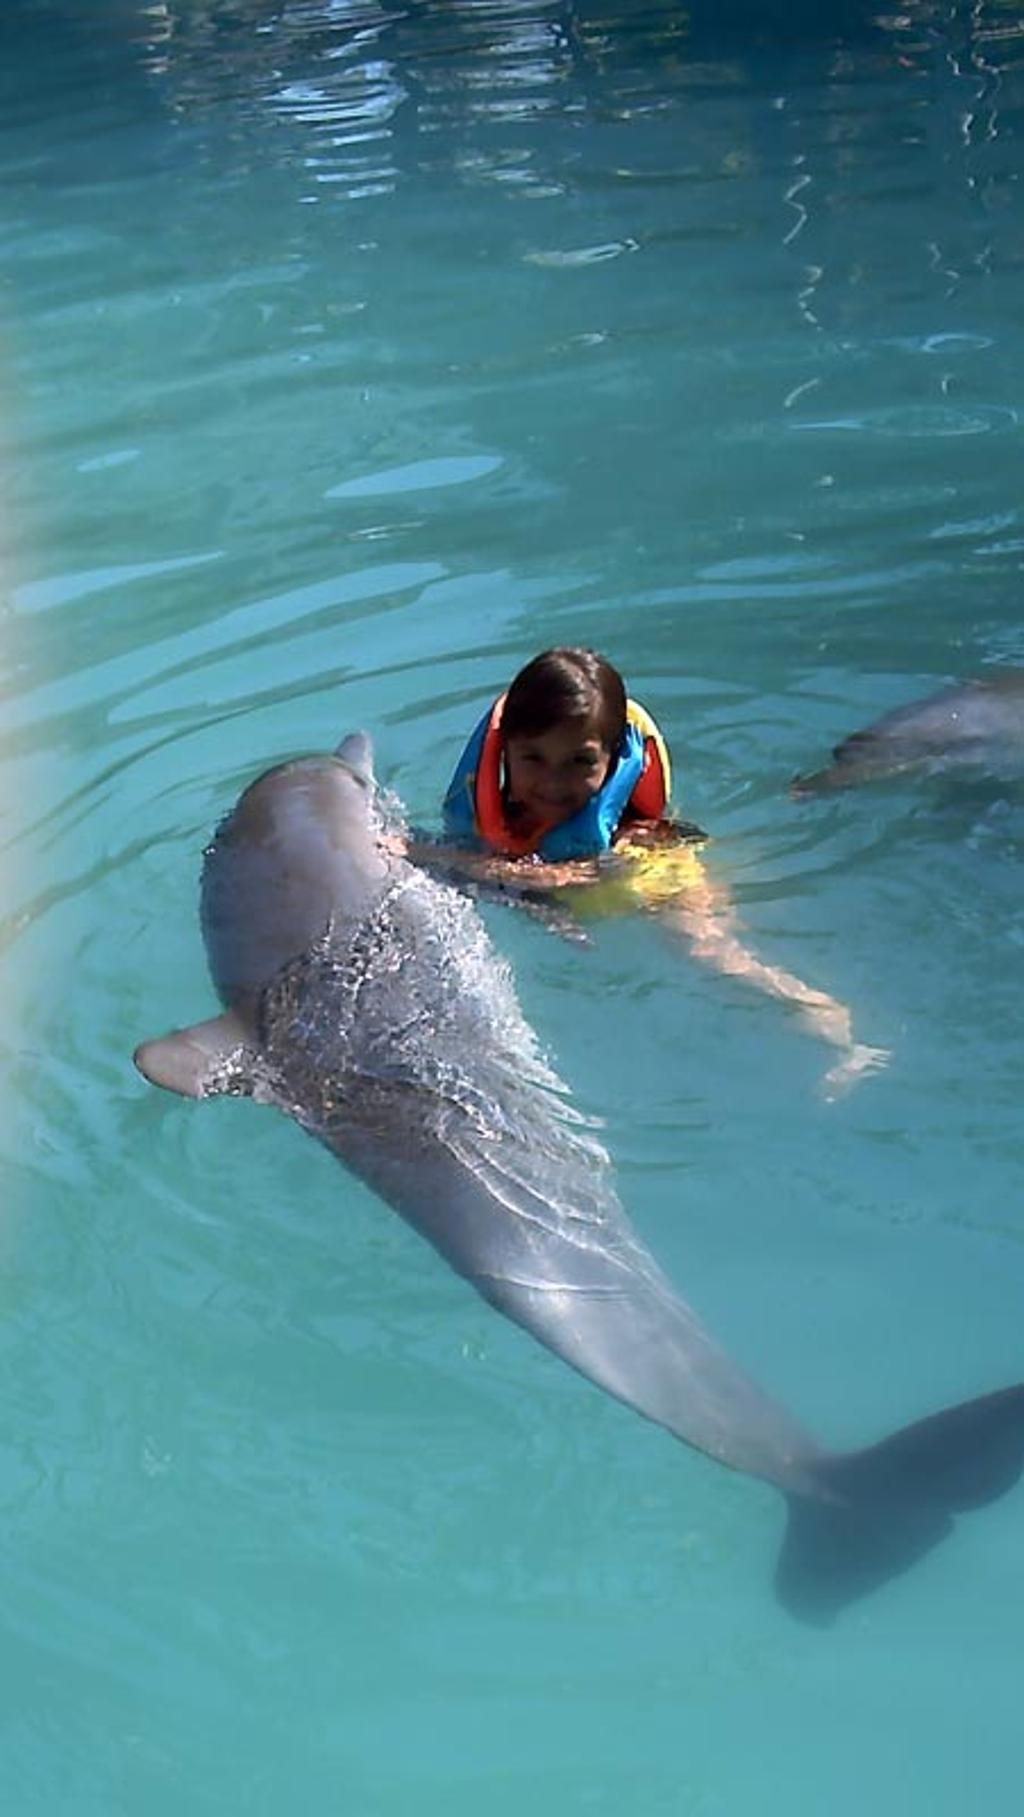face: (514, 723, 610, 815)
